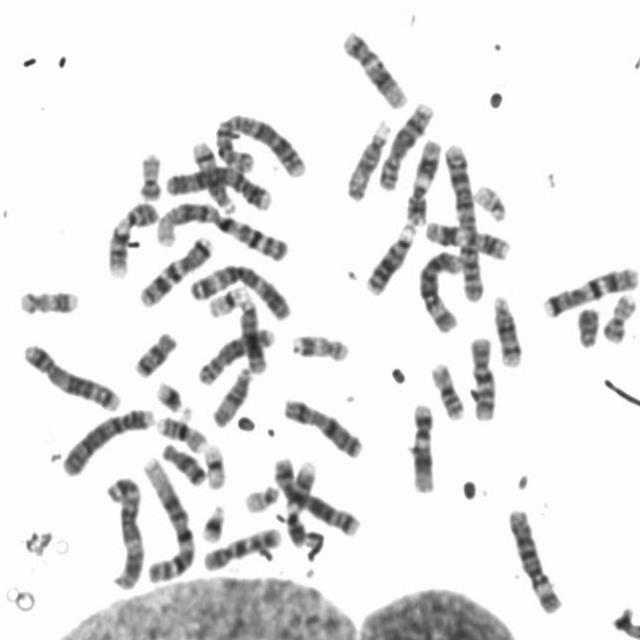A1: (148, 194, 292, 263), (137, 451, 198, 584)
A2: (439, 138, 486, 304), (209, 108, 309, 181)
A3: (186, 258, 295, 322), (101, 470, 148, 591)
B4: (58, 402, 156, 478), (161, 160, 275, 212)
B5: (269, 450, 362, 538), (17, 338, 123, 413)
C10: (198, 522, 284, 573), (464, 329, 500, 424)
C11: (420, 213, 512, 262), (402, 133, 443, 227)
C12: (337, 23, 411, 111), (406, 397, 439, 495)
C6: (503, 502, 566, 616), (415, 244, 468, 333)
C7: (134, 230, 216, 308), (537, 260, 639, 318)
C8: (375, 96, 437, 192), (194, 322, 278, 388)
C9: (104, 195, 161, 279), (282, 454, 321, 547)
D13: (361, 218, 418, 296), (236, 293, 271, 375)
D14: (186, 133, 238, 215), (488, 290, 526, 370)
D15: (342, 115, 394, 203), (208, 361, 254, 429)
E16: (426, 356, 468, 422), (153, 410, 209, 454)
E17: (14, 282, 81, 318), (288, 327, 351, 364)
E18: (130, 326, 180, 379), (156, 436, 208, 486)
F19: (203, 279, 250, 318), (200, 439, 229, 491)
F20: (598, 288, 639, 345), (134, 147, 164, 202)
G21: (151, 375, 193, 418), (197, 498, 228, 544)
G22: (470, 179, 510, 222), (240, 480, 282, 514)
X: (279, 392, 367, 460)
Y: (572, 300, 602, 350)
